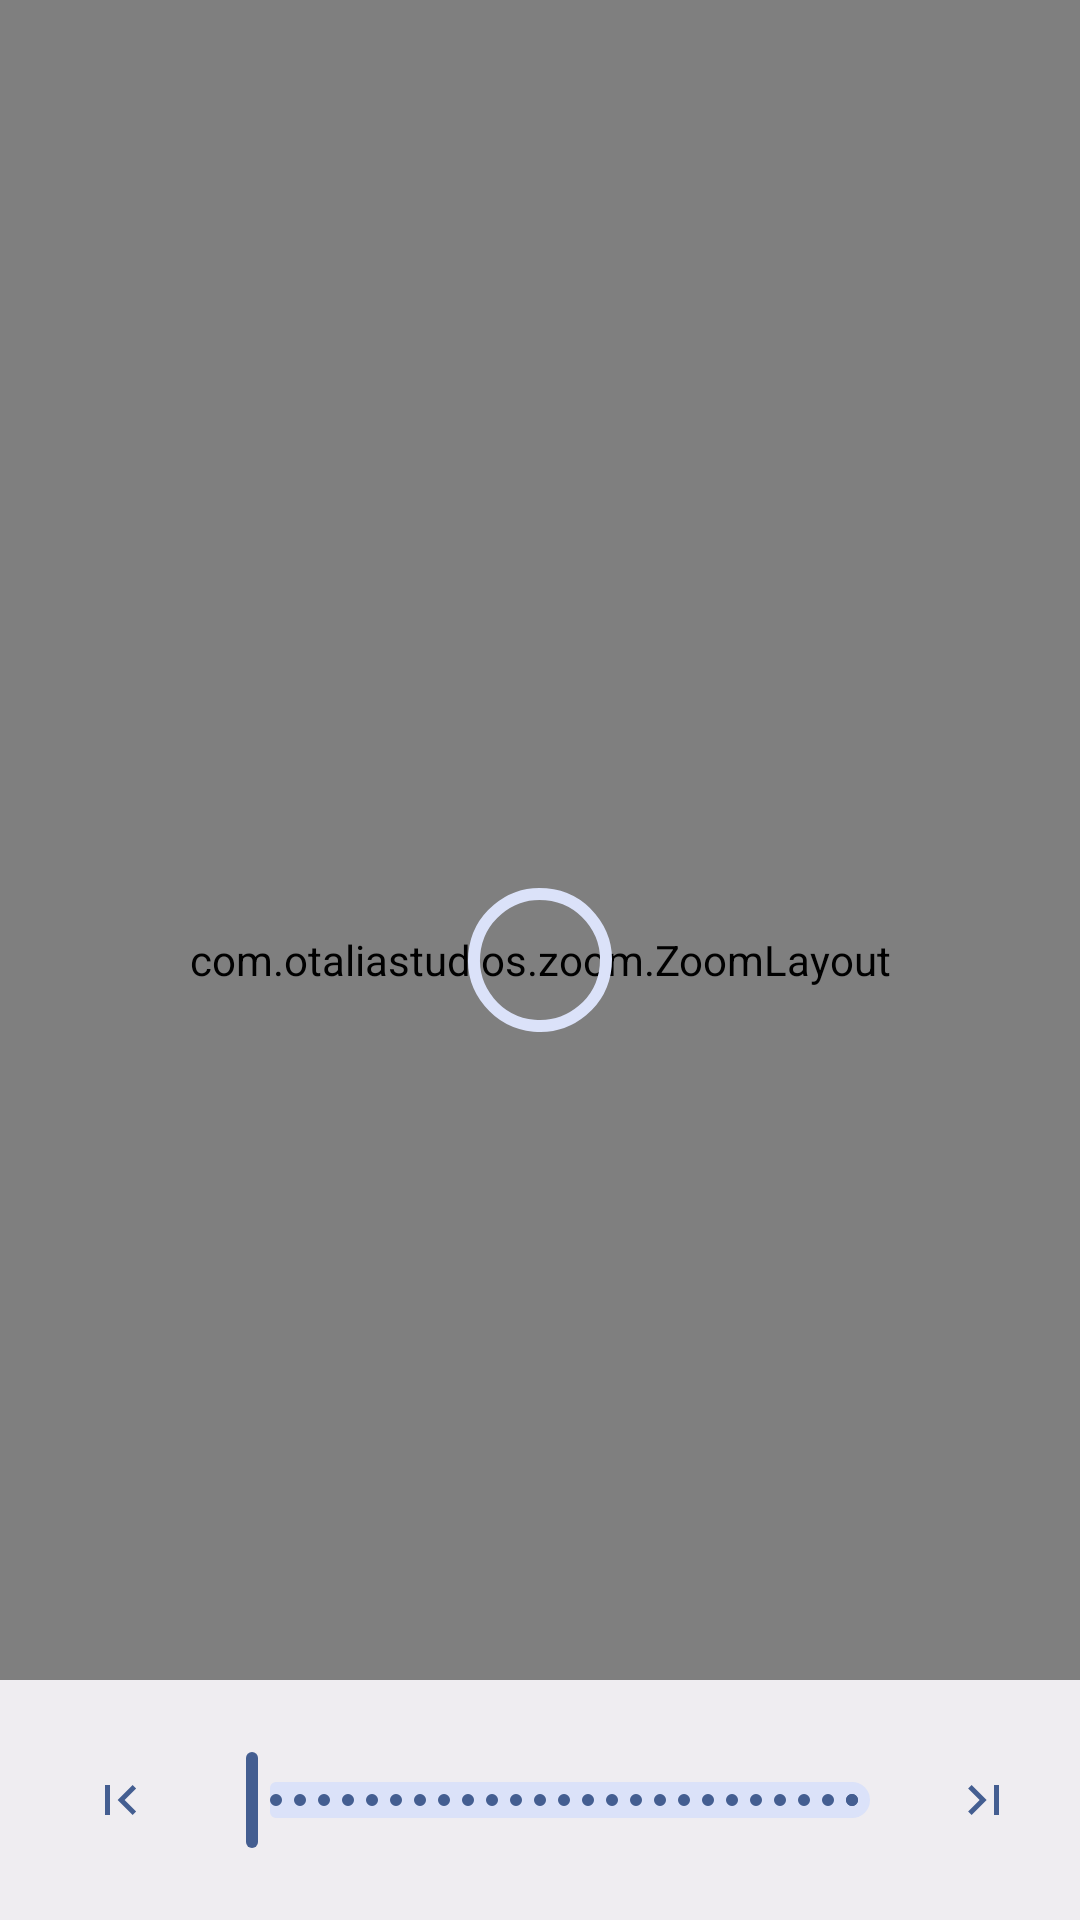

Icons on this 1080 x 1920 Android screen, each with the point to tap as point (x, y):
first page: point (120, 1800)
last page: point (983, 1800)
